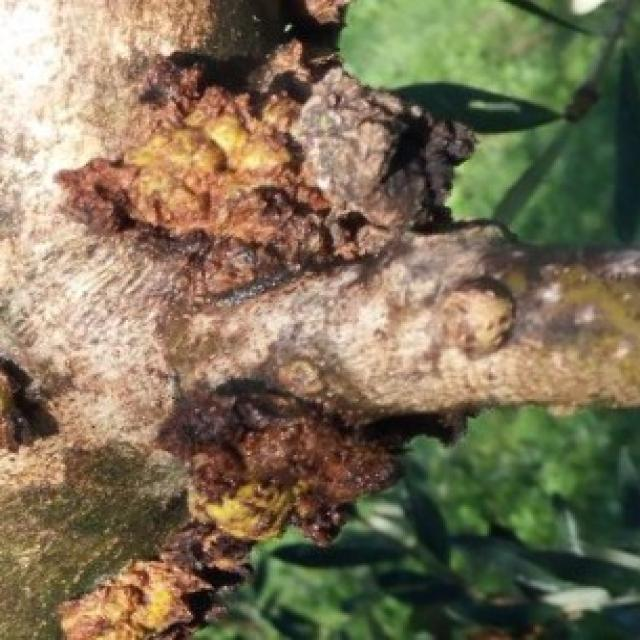Tuberculosis: (61, 391, 428, 638), (61, 67, 378, 264), (292, 58, 474, 227)
